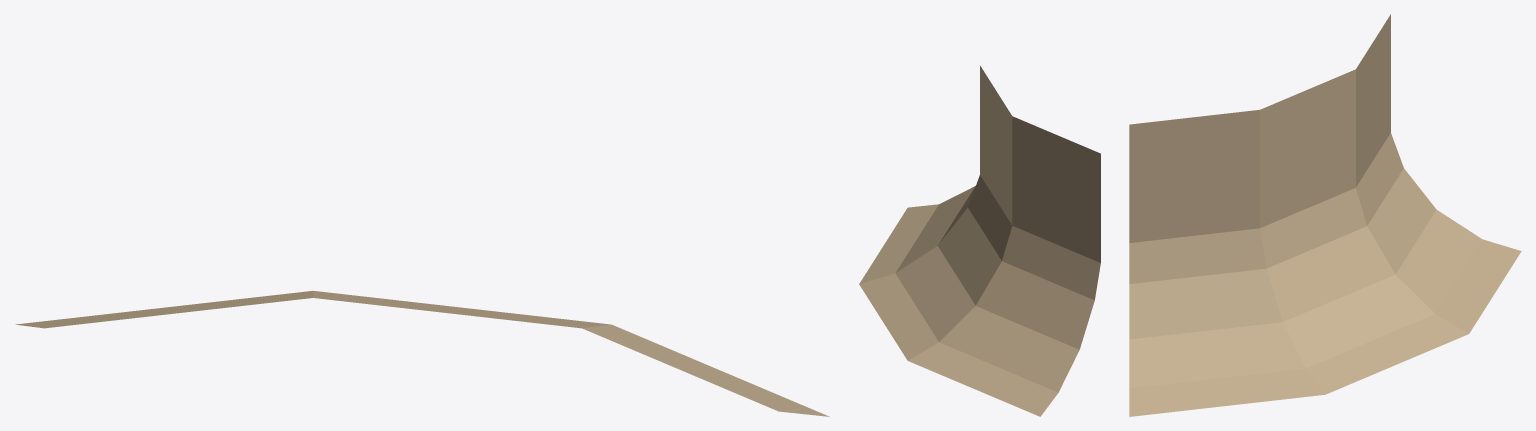
File: Escarpment_Terrain_Corner_Outer_2x2_Base.glb
3 views of the same model, side by side, from view 1: azimuth 30°, elevation 25°; view 2: azimuth 150°, elevation 25°; view 3: azimuth 270°, elevation 25° (orthographic). The views are drawn at different scales.
Parts seen in each view (by area): view 1: Escarpment_Terrain_Corner_Outer_2x2_Base; view 2: Escarpment_Terrain_Corner_Outer_2x2_Base; view 3: Escarpment_Terrain_Corner_Outer_2x2_Base.
Part boxes in pixels (box(x1,y1,x2,y2)): Escarpment_Terrain_Corner_Outer_2x2_Base: box(15, 290, 829, 416); Escarpment_Terrain_Corner_Outer_2x2_Base: box(859, 65, 1100, 416); Escarpment_Terrain_Corner_Outer_2x2_Base: box(1129, 14, 1521, 416).
Size of the model in its own units: 1.5 by 1 by 1.5.
